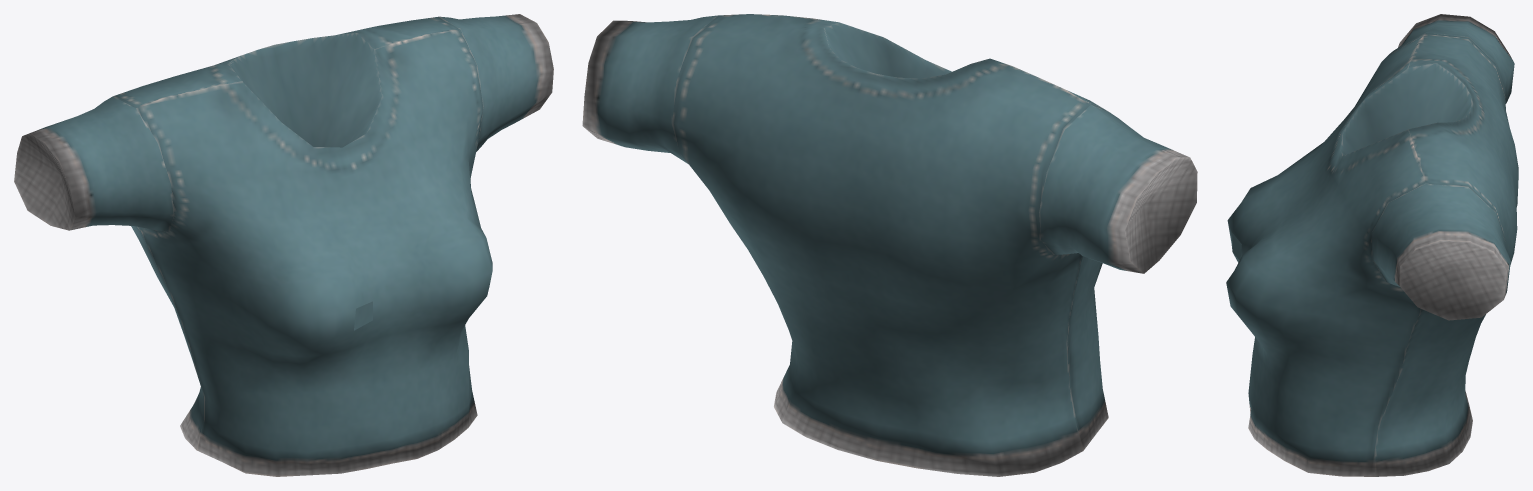
Rendered from toptest2.fbx.
The picture shows the model from 3 angles, left to right: view 1: azimuth 30°, elevation 25°; view 2: azimuth 150°, elevation 25°; view 3: azimuth 270°, elevation 25°; orthographic projection. The views are drawn at different scales.
Parts seen in each view (by area): view 1: Tops; view 2: Tops; view 3: Tops.
Part boxes in pixels (x1,y1,x2,y2): Tops: (14,14,553,476); Tops: (582,14,1197,476); Tops: (1226,14,1518,476).
Size of the model in its own units: 54.57 by 36.89 by 29.78.
